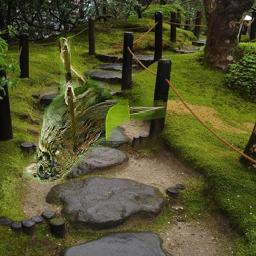Sparrow: (23, 32, 167, 184)
